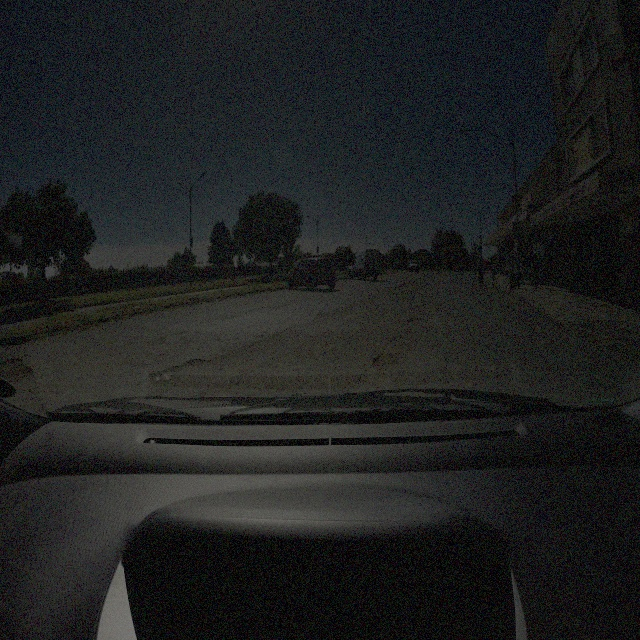pothole: (0, 350, 33, 388), (165, 357, 205, 379), (372, 349, 397, 368), (391, 333, 410, 342), (409, 314, 424, 324), (317, 310, 325, 317)
